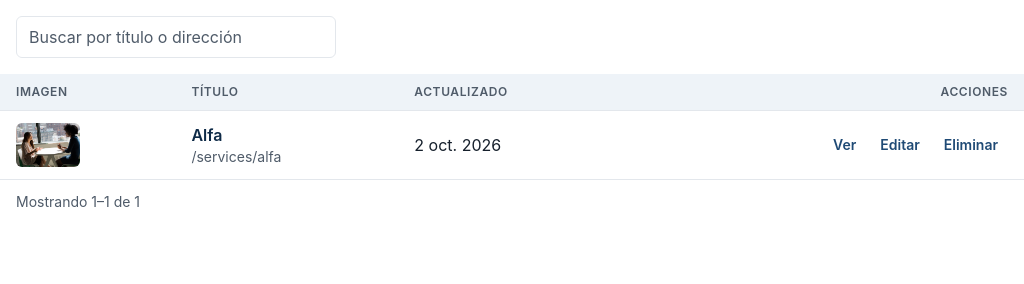
it: avisa si el servidor no pudo borrar
Click the button with aria-label "Eliminar Alfa" at (971, 145), box [934,129,1008,161]
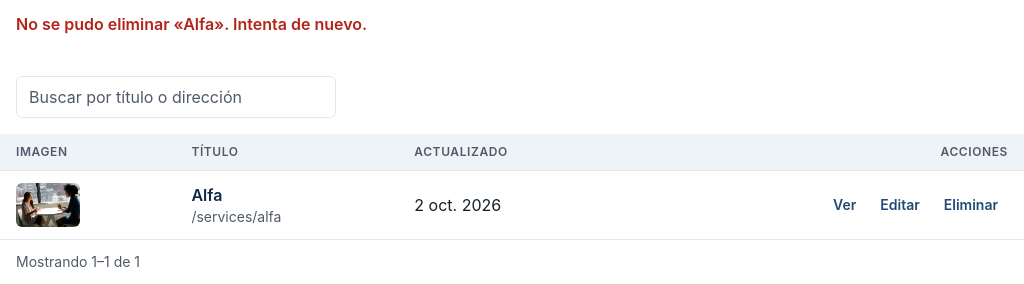
Check: the message shows "No se pudo eliminar", box [16,14,367,34]
